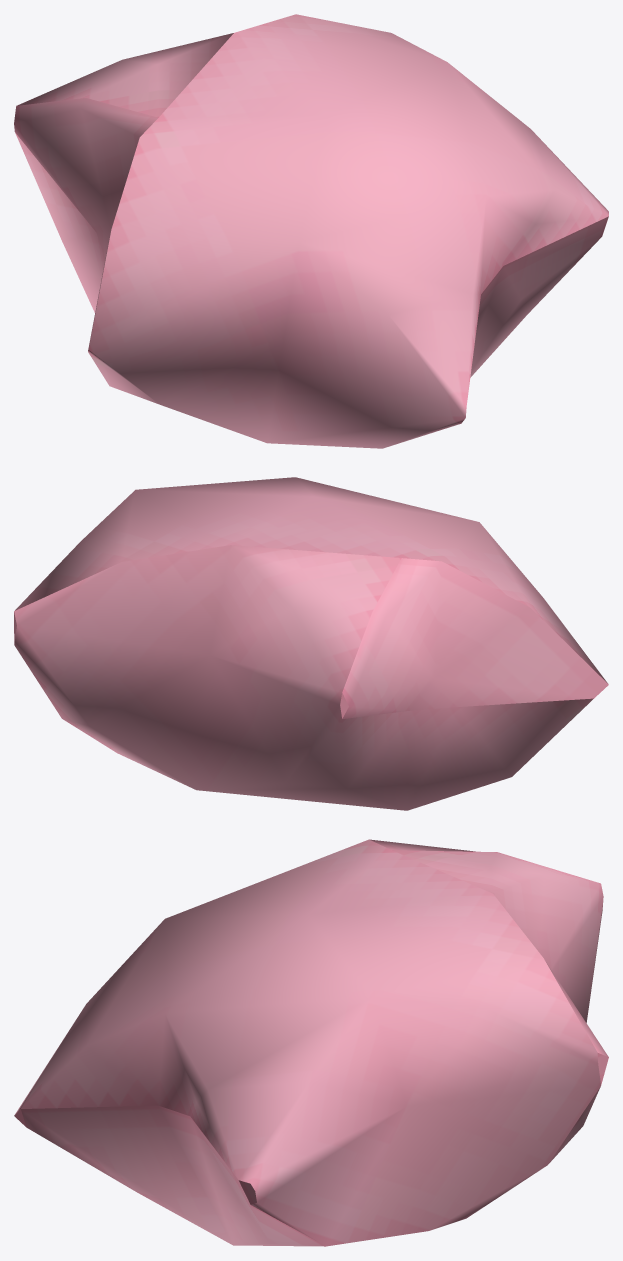
File: ref_gtpaperstar.fbx
3 views of the same model, one above another, from view 1: azimuth 30°, elevation 25°; view 2: azimuth 150°, elevation 25°; view 3: azimuth 270°, elevation 25° (orthographic). The views are drawn at different scales.
Parts seen in each view (by area): view 1: ref_gtpaperstar; view 2: ref_gtpaperstar; view 3: ref_gtpaperstar.
Boxes of the visible parts, x1,y1,x2,y2 form: ref_gtpaperstar: [14, 14, 608, 448]; ref_gtpaperstar: [14, 477, 608, 810]; ref_gtpaperstar: [14, 839, 608, 1246].
Bounding box in the file's own units: 100 × 54.7 × 95.54.
1 material, 1 textured.
